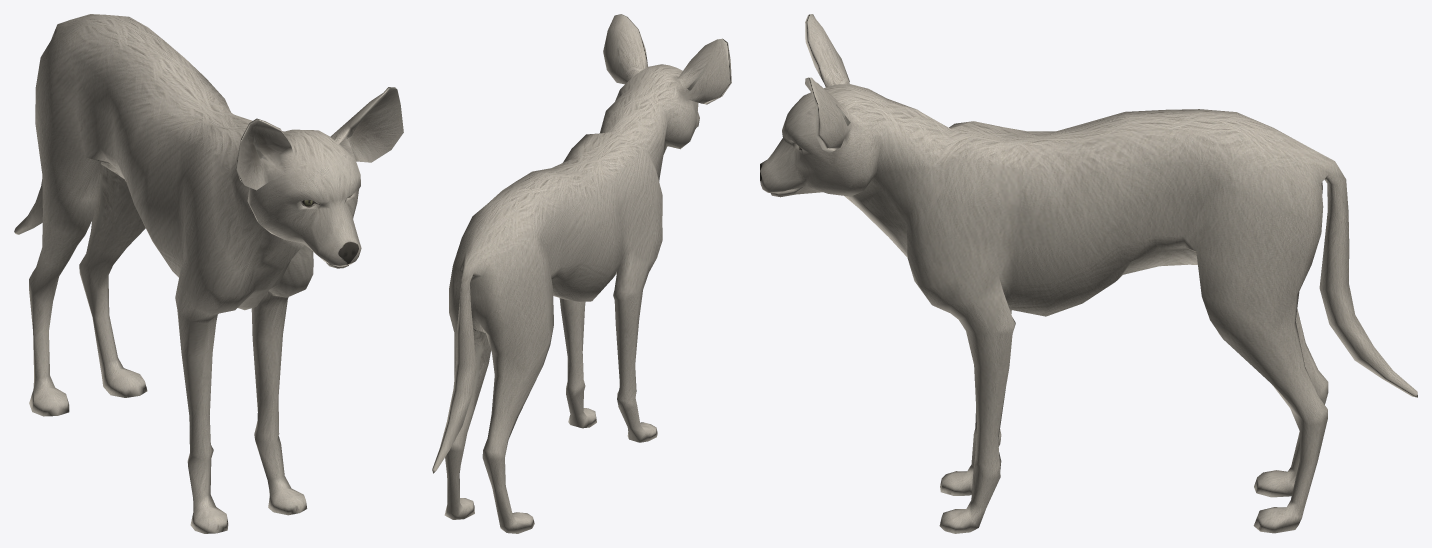
File: dog.glb
3 views of the same model, side by side, from view 1: azimuth 30°, elevation 25°; view 2: azimuth 150°, elevation 25°; view 3: azimuth 270°, elevation 25° (orthographic). The views are drawn at different scales.
Size of the model in its own units: 0.3675 by 1 by 1.29.
Materials: 1 (1 with a texture image).
